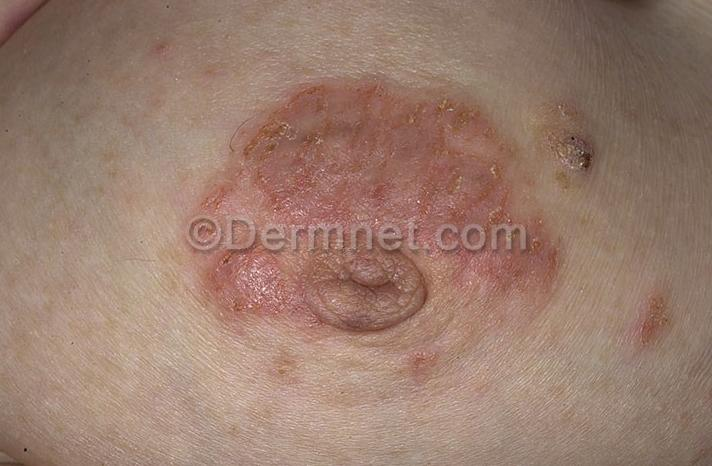edema 1: (249, 198, 454, 352)
eritema 3: (176, 73, 578, 374)
exudacion 2: (197, 73, 556, 388)
xerosis 2: (184, 78, 579, 370)
